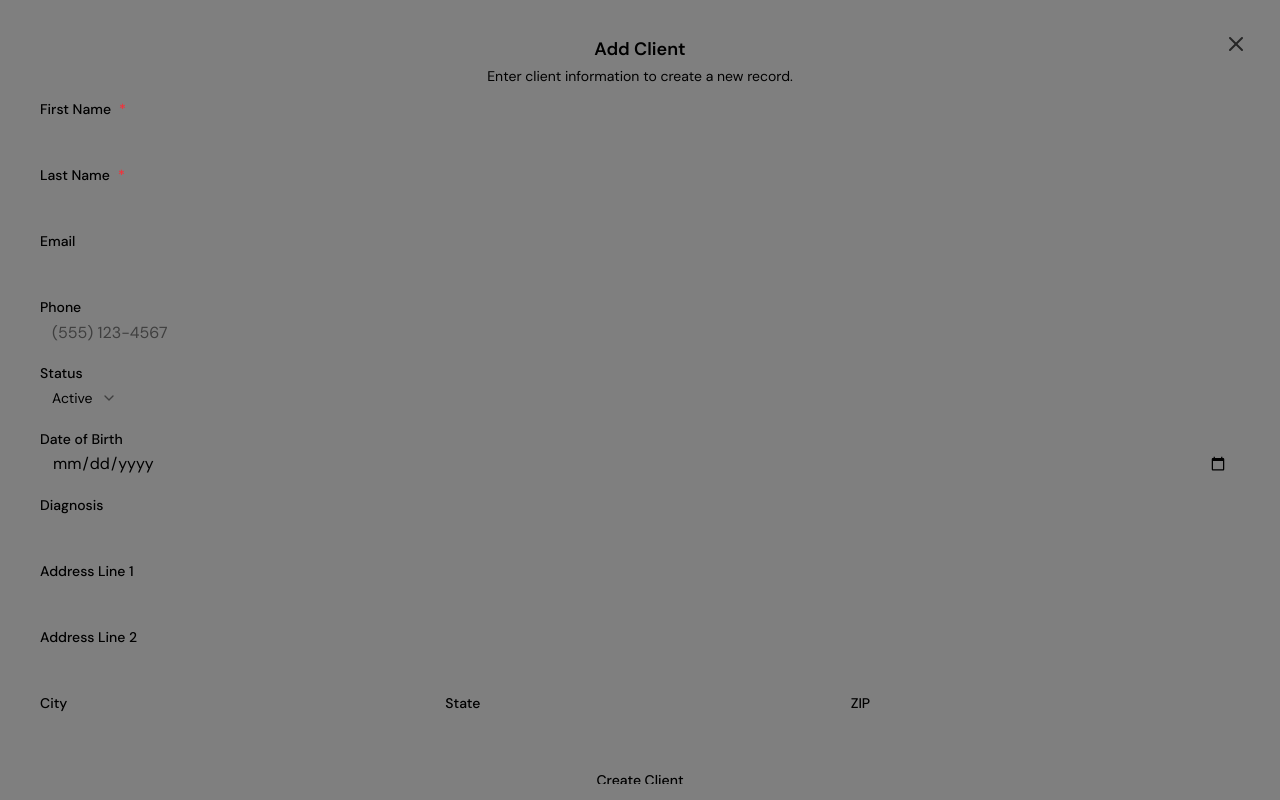
PatientForm › Validation › shows error when first name is empty
// Try to submit without first name
Click the button "Create Client" at (640, 780), box [40,762,1240,798]
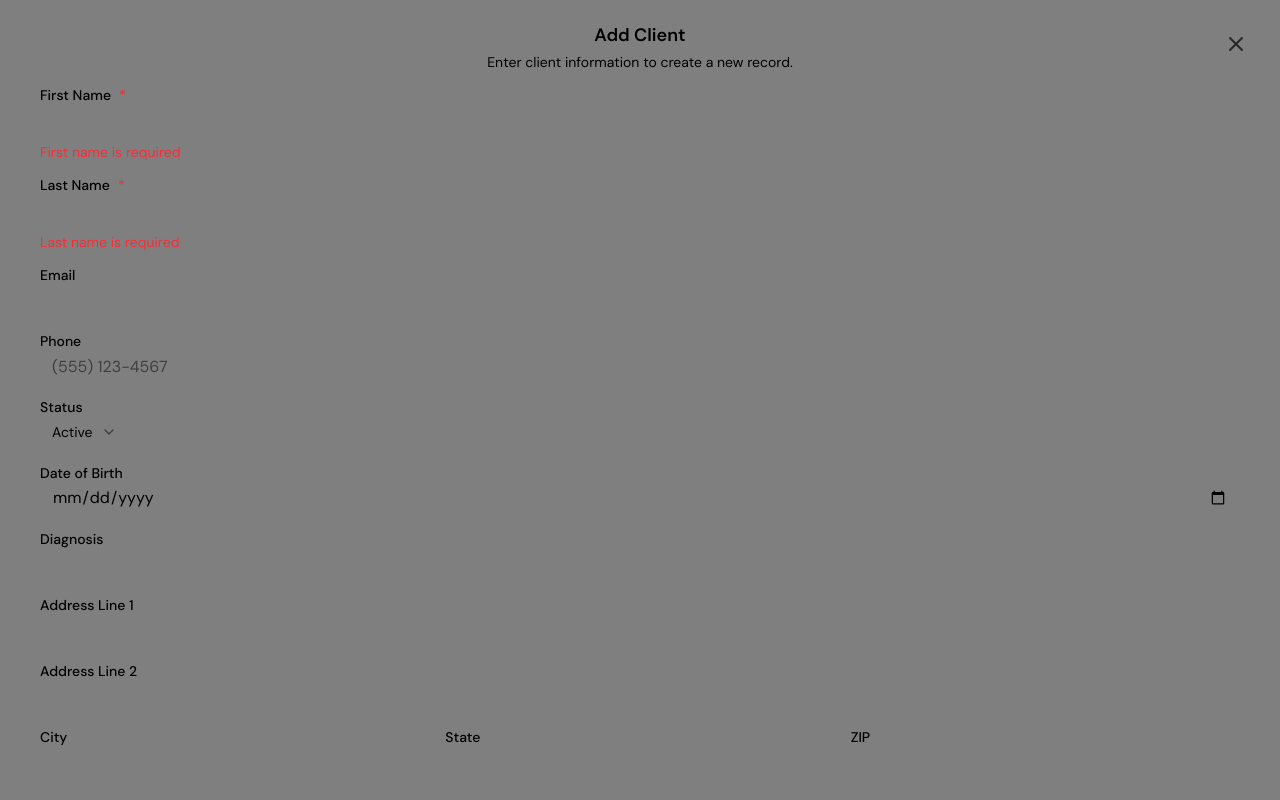
Expected: the text "First name is required" is shown, [40,143,180,161]
